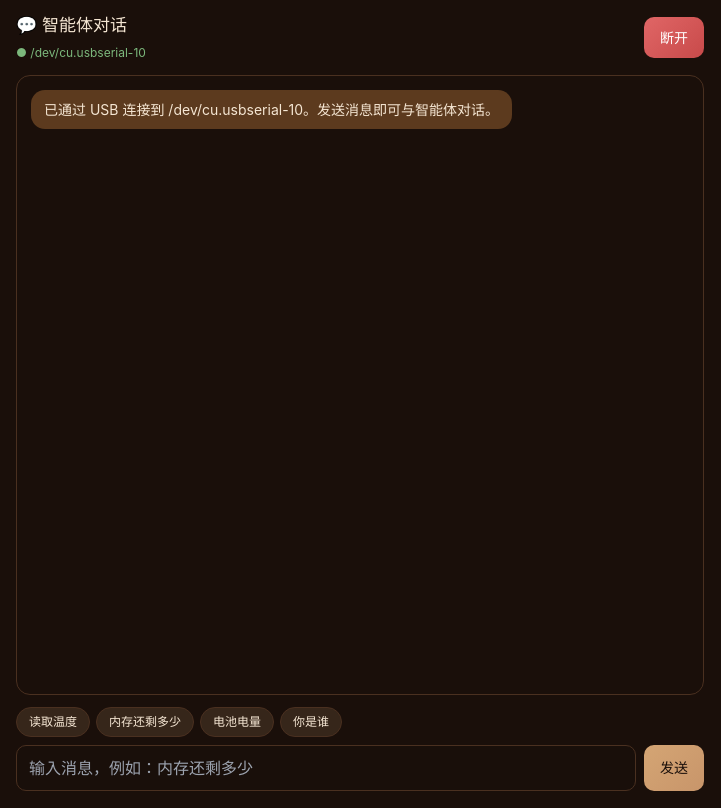
UsbChatPanel › sends a message and renders the agent reply
In the field with placeholder "输入消息，例如：内存还剩多少": (326,768) [16,744,636,790], type "你好吗"
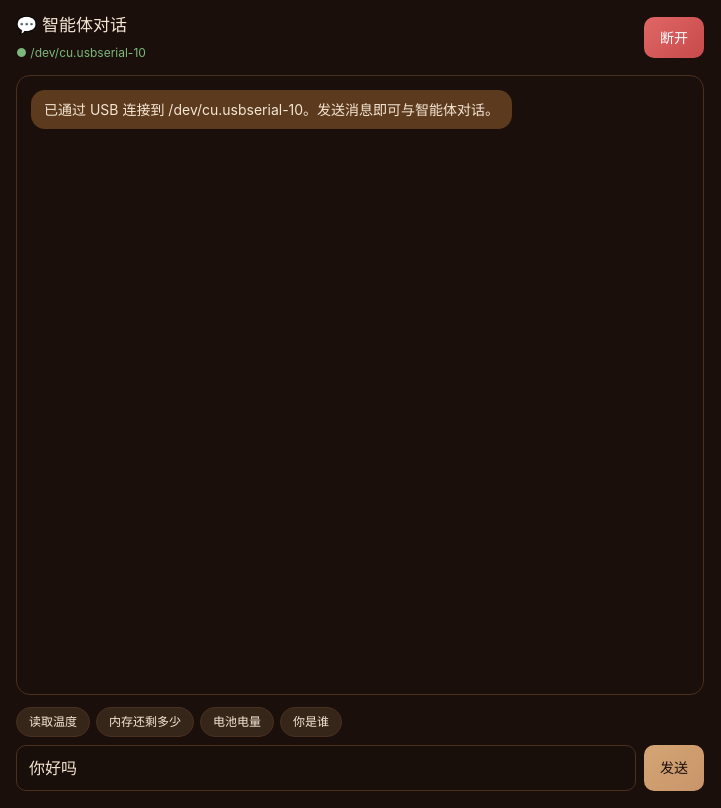
Click the button "发送": (674,768) [644,744,704,790]
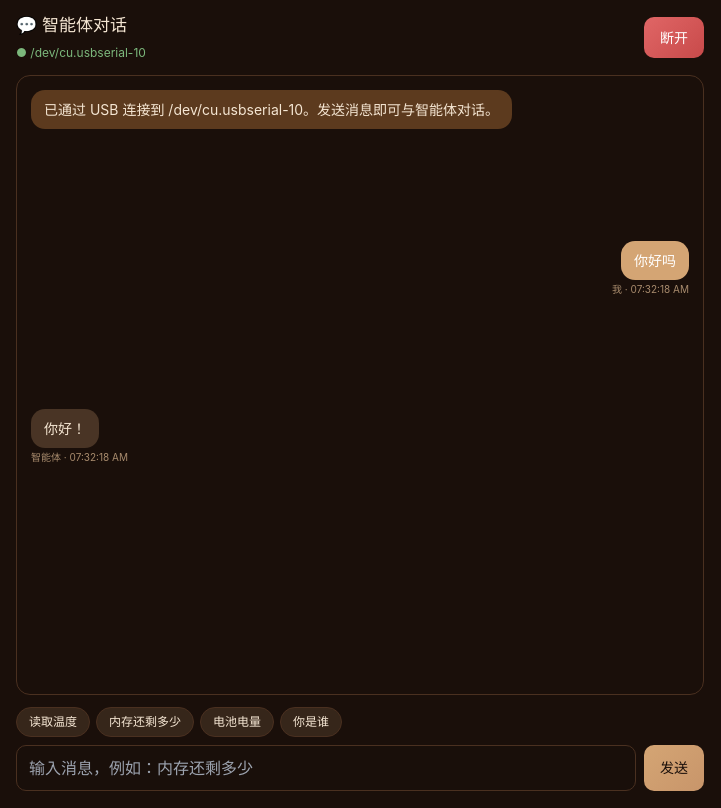
Expected: the text "你好吗" is shown, [621,241,689,280]
Expected: the text "你好！" is shown, [31,409,99,448]
